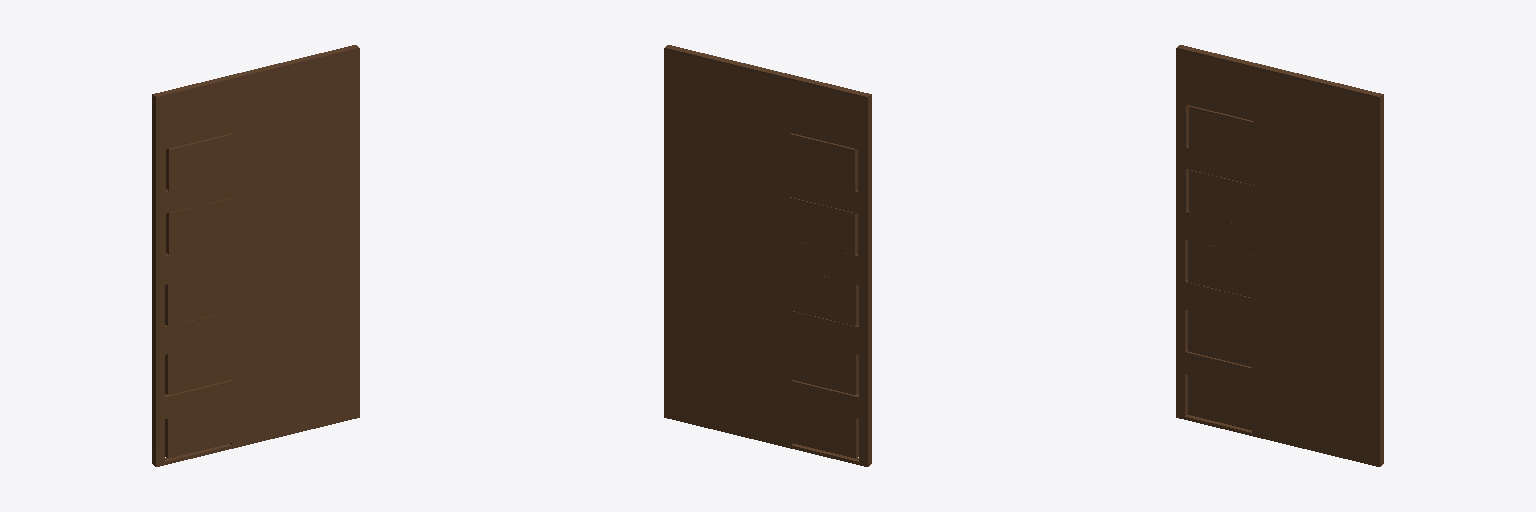
The picture shows the model from 3 angles: view 1: azimuth 30°, elevation 25°; view 2: azimuth 150°, elevation 25°; view 3: azimuth 330°, elevation 25°; orthographic projection.
Parts seen in each view (by area): view 1: polySurface323; view 2: polySurface323; view 3: polySurface323.
Part boxes in pixels (x1,y1,x2,y2): polySurface323: (152, 45, 359, 466); polySurface323: (664, 45, 871, 466); polySurface323: (1176, 45, 1383, 466).
Bounding box in the file's own units: 6.98 × 12.15 × 0.2366.
Materials: 1 (1 with a texture image).